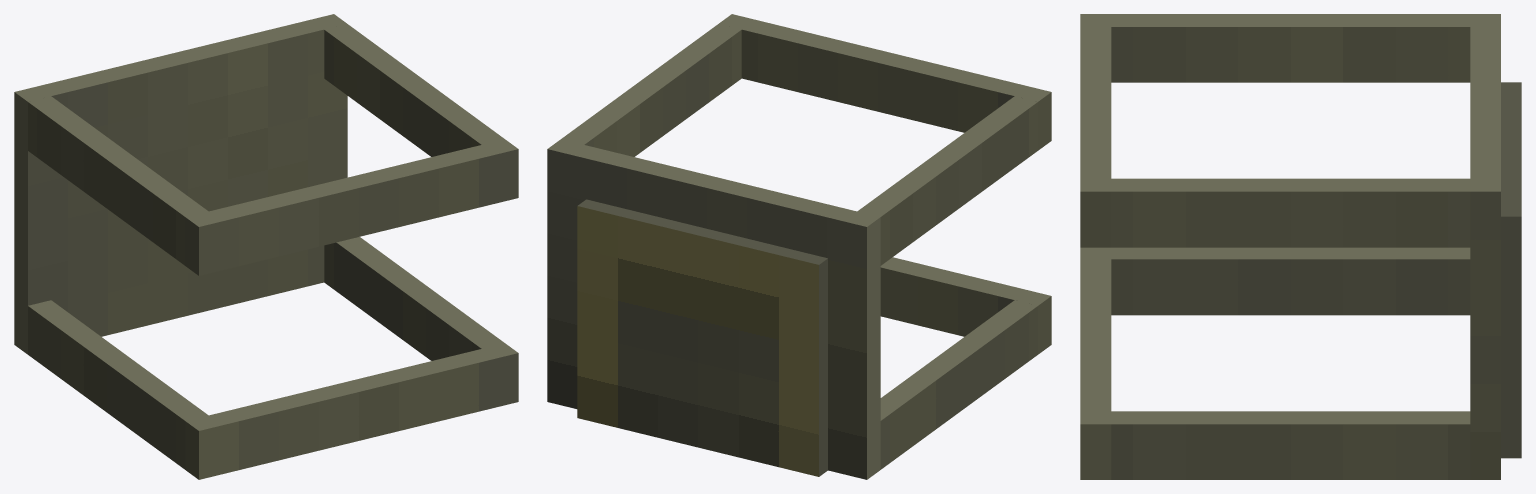
File: defender_p_r.obj
The picture shows the model from 3 angles, left to right: view 1: azimuth 30°, elevation 25°; view 2: azimuth 150°, elevation 25°; view 3: azimuth 270°, elevation 25°; orthographic projection. The views are drawn at different scales.
Parts seen in each view (by area): view 1: cube; view 2: cube; view 3: cube.
Part boxes in pixels (x1,y1,x2,y2): cube: [14, 14, 518, 479]; cube: [547, 14, 1051, 479]; cube: [1080, 14, 1521, 479].
Size of the model in its own units: 0.2562 by 0.1938 by 0.2687.
